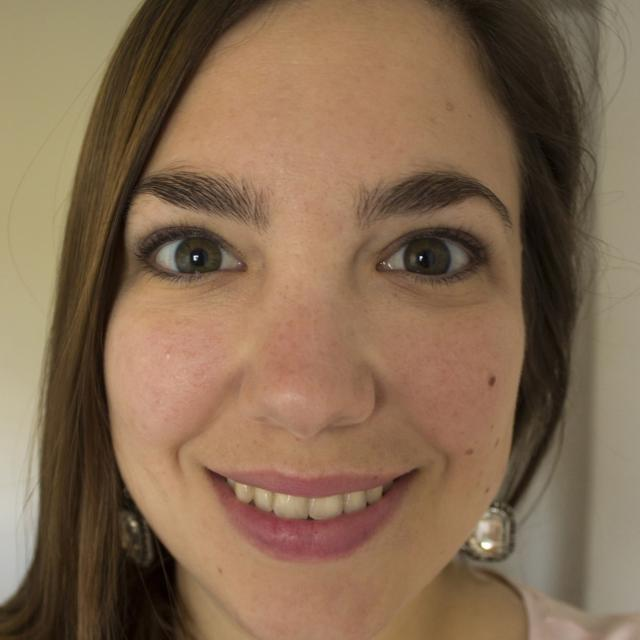Normal: (36, 2, 577, 640)
